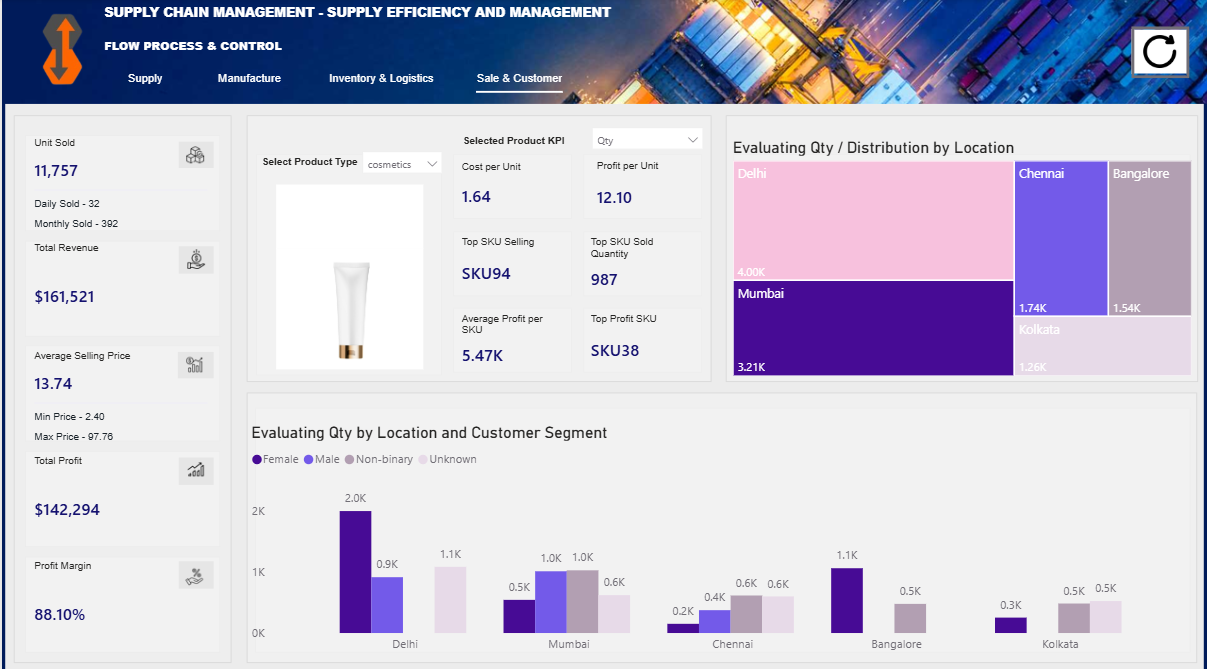

Layout of this report page (visuals, bound fields, positions):
{"tool":"powerbi","page":{"name":"Sale & Customer","canvas":[1280,720],"ordinal":3},"visuals":[{"type":"image","box":[1198.4,33.8,59.7,46.8],"z":0,"group":"g2"},{"type":"actionButton","box":[466,74.8,165.4,20.7],"z":0,"group":"g1"},{"type":"cardVisual","title":"Unit Sold","fields":{"Data":["Sale & Customer_Measure.Unit Sold"]},"box":[30,148.3,196.7,100],"z":0},{"type":"actionButton","box":[1198.4,30.6,61.3,54.8],"z":1000,"group":"g2"},{"type":"shape","box":[502.7,93.8,92.2,11.3],"z":1000,"group":"g1"},{"type":"cardVisual","title":"Total Revenue","fields":{"Data":["Sale & Customer_Measure.Total Revenue"]},"box":[30,260,196.7,100],"z":1000},{"type":"cardVisual","title":"Average Selling Price","fields":{"Data":["Sale & Customer_Measure.Average Selling Price"]},"box":[30,373.3,196.7,100],"z":2000},{"type":"cardVisual","title":"Total Profit","fields":{"Data":["Sale & Customer_Measure.Total Profit"]},"box":[30,485,196.7,100],"z":3000},{"type":"cardVisual","title":"Profit Margin","fields":{"Data":["Sale & Customer_Measure.Profit Margin"]},"box":[30,596.7,196.7,100],"z":4000},{"type":"tableEx","fields":{"Values":["Sheet1.Url"]},"box":[284.7,193,176.6,213.1],"z":5000},{"type":"slicer","fields":{"Values":["Sheet1.Product type"]},"box":[372.7,152.7,105,41.4],"z":6000},{"type":"textbox","box":[269.9,158,119.3,35],"z":7000},{"type":"treemap","fields":{"Values":["Sale & Customer_Measure.Selected Sales KPI"],"Group":["Sheet1.Location"]},"box":[769.9,147.9,496.3,257.7],"z":8000},{"type":"slicer","fields":{"Values":["Sale KPI Selector.KPI"]},"box":[615.6,127.3,138.3,40.6],"z":9000},{"type":"clusteredColumnChart","fields":{"Y":["Sale & Customer_Measure.Selected Sales KPI"],"Category":["Sheet1.Location"],"Series":["Sheet1.Customer demographics"]},"box":[259.3,450.1,1006.9,252.9],"z":10000},{"type":"cardVisual","title":"Cost per Unit","fields":{"Data":["Sale & Customer_Measure.COGS per Unit"]},"box":[483,173.3,116.5,60.2],"z":11000},{"type":"cardVisual","title":"Top SKU Selling","fields":{"Data":["Sale & Customer_Measure.Top Selling SKU"]},"box":[483,252.8,116.5,64.2],"z":12000},{"type":"cardVisual","title":"Profit per Unit","fields":{"Data":["Sale & Customer_Measure.Profit per Unit"]},"box":[626.7,171,116.5,64.2],"z":13000},{"type":"cardVisual","title":"Top SKU Sold Quantity","fields":{"Data":["Sale & Customer_Measure.Top SKU Sold Quantity"]},"box":[619.9,252.8,116.5,64.2],"z":14000},{"type":"cardVisual","title":"Average Profit per SKU","fields":{"Data":["Sale & Customer_Measure.Average Profit per SKU"]},"box":[483,334.7,116.5,64.2],"z":15000},{"type":"cardVisual","title":"Top Profit SKU","fields":{"Data":["Sale & Customer_Measure.Top Profit SKU"]},"box":[620.2,334.3,116.2,64.6],"z":16000},{"type":"textbox","box":[483.5,135.2,119.3,35],"z":17000},{"type":"actionButton","box":[103.4,74.8,97,19.1],"z":18000},{"type":"actionButton","box":[205.2,74.8,114.5,20.7],"z":19000},{"type":"actionButton","box":[319.7,74.8,165.4,20.7],"z":20000},{"type":"group","id":"g1","title":"Group 1","box":[466,74.8,165.4,30.3],"z":21000},{"type":"group","id":"g2","title":"Group 2","box":[1198.4,30.6,61.3,54.8],"z":22000},{"type":"image","box":[38.2,14.3,52.5,79.5],"z":23000},{"type":"textbox","box":[103.4,0,574.2,39.8],"z":24000},{"type":"textbox","box":[103.4,35,574.2,39.8],"z":25000}]}

Visuals, with their boxes in screenshot pixels (x1, y1, x2, y2), scaled from the page's 1280x720 canvas onto the 1207x669 screenshot:
image: select_region(1130, 31, 1186, 75)
actionButton: select_region(439, 70, 595, 89)
"Unit Sold" cardVisual: select_region(28, 138, 214, 231)
actionButton: select_region(1130, 28, 1188, 79)
shape: select_region(474, 87, 561, 98)
"Total Revenue" cardVisual: select_region(28, 242, 214, 334)
"Average Selling Price" cardVisual: select_region(28, 347, 214, 440)
"Total Profit" cardVisual: select_region(28, 451, 214, 544)
"Profit Margin" cardVisual: select_region(28, 554, 214, 647)
tableEx - Sheet1.Url: select_region(268, 179, 435, 377)
slicer - Sheet1.Product type: select_region(351, 142, 450, 180)
textbox: select_region(255, 147, 367, 179)
treemap - Sale & Customer_Measure.Selected Sales KPI x Sheet1.Location: select_region(726, 137, 1194, 377)
slicer - Sale KPI Selector.KPI: select_region(580, 118, 711, 156)
clusteredColumnChart - Sale & Customer_Measure.Selected Sales KPI x Sheet1.Location: select_region(245, 418, 1194, 653)
"Cost per Unit" cardVisual: select_region(455, 161, 565, 217)
"Top SKU Selling" cardVisual: select_region(455, 235, 565, 295)
"Profit per Unit" cardVisual: select_region(591, 159, 701, 219)
"Top SKU Sold Quantity" cardVisual: select_region(585, 235, 694, 295)
"Average Profit per SKU" cardVisual: select_region(455, 311, 565, 371)
"Top Profit SKU" cardVisual: select_region(585, 311, 694, 371)
textbox: select_region(456, 126, 568, 158)
actionButton: select_region(98, 70, 189, 87)
actionButton: select_region(193, 70, 301, 89)
actionButton: select_region(301, 70, 457, 89)
"Group 1" group: select_region(439, 70, 595, 98)
"Group 2" group: select_region(1130, 28, 1188, 79)
image: select_region(36, 13, 86, 87)
textbox: select_region(98, 0, 639, 37)
textbox: select_region(98, 33, 639, 70)
